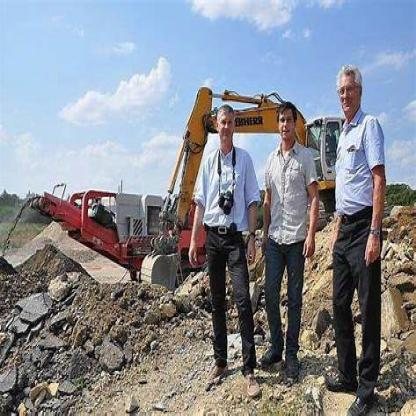person: (324, 44, 400, 412), (193, 85, 266, 404), (263, 87, 317, 392)
